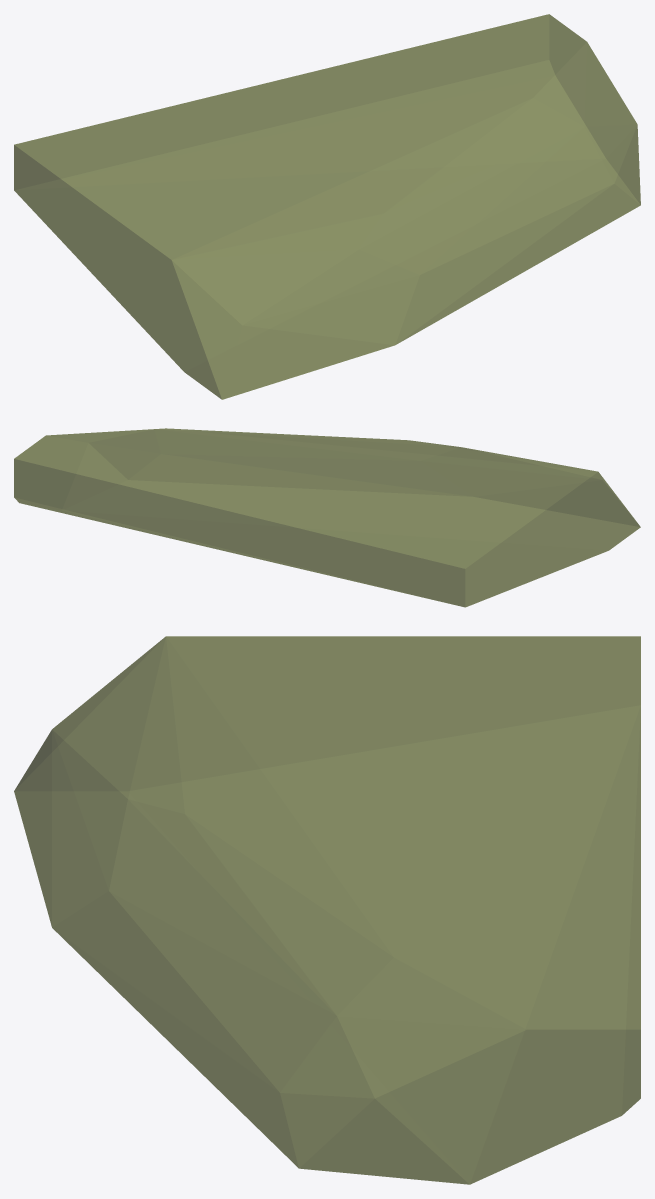
The picture shows the model from 3 angles, top to bottom: view 1: azimuth 30°, elevation 25°; view 2: azimuth 150°, elevation 25°; view 3: azimuth 270°, elevation 25°; orthographic projection. The views are drawn at different scales.
Parts seen in each view (by area): view 1: Shape_IndexedFaceSet.051_Shape_IndexedFaceSet.16497; view 2: Shape_IndexedFaceSet.051_Shape_IndexedFaceSet.16497; view 3: Shape_IndexedFaceSet.051_Shape_IndexedFaceSet.16497.
Boxes of the visible parts, <box> form: Shape_IndexedFaceSet.051_Shape_IndexedFaceSet.16497: <box>14,14,640,399</box>; Shape_IndexedFaceSet.051_Shape_IndexedFaceSet.16497: <box>14,428,640,607</box>; Shape_IndexedFaceSet.051_Shape_IndexedFaceSet.16497: <box>14,636,640,1184</box>.
Bounding box in the file's own units: 0.1435 × 0.0264 × 0.0966.
